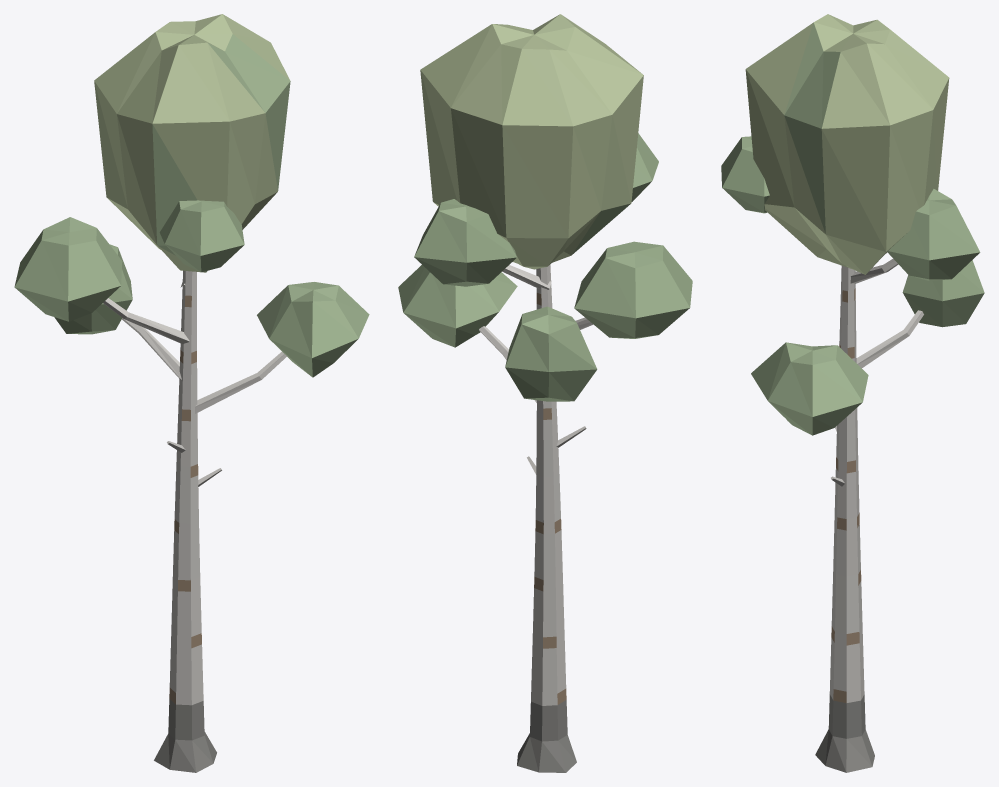
The model's file is birch-tree-181b33.glb.
3 views of the same model, side by side, from view 1: azimuth 30°, elevation 25°; view 2: azimuth 150°, elevation 25°; view 3: azimuth 270°, elevation 25° (orthographic).
Parts seen in each view (by area): view 1: birch-tree-mesh; view 2: birch-tree-mesh; view 3: birch-tree-mesh.
Part boxes in pixels (bbox=[...]): birch-tree-mesh: bbox=[14, 14, 369, 772]; birch-tree-mesh: bbox=[398, 14, 692, 772]; birch-tree-mesh: bbox=[721, 14, 984, 772].
Bounding box in the file's own units: 3.01 × 6.49 × 2.1.
